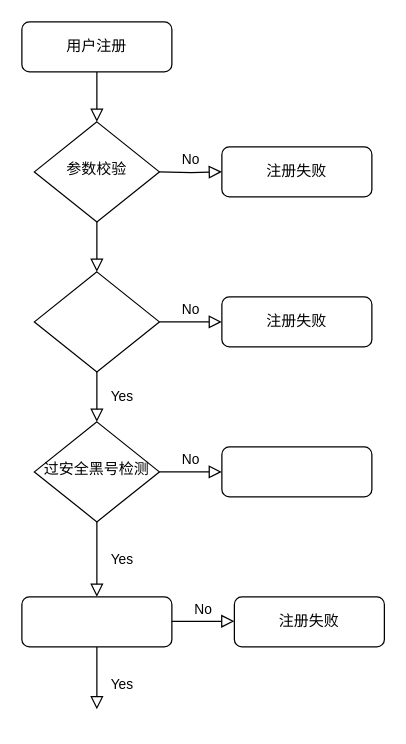
This 406x744 diagram has some shape labels left out. Each missing label, with the box of its shape:
注册失败， 注销UDC账号: (221, 446, 372, 497)
添加业务用户映射表: (21, 596, 172, 647)
调用UDC注册: (33, 271, 159, 372)
